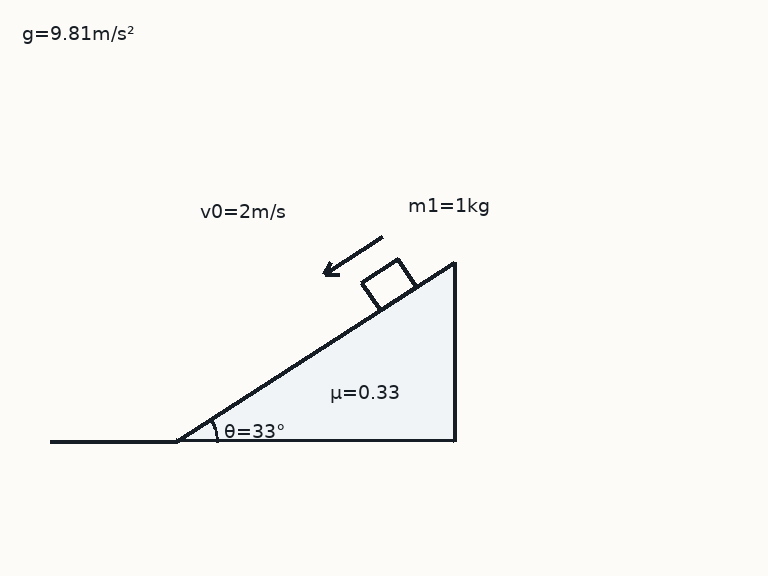block: (360, 257, 418, 312)
ramp: (175, 259, 456, 443)
